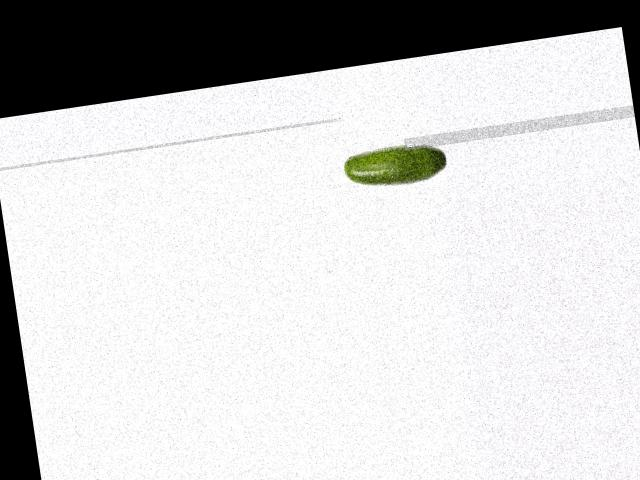cucumber: (341, 138, 450, 193)
